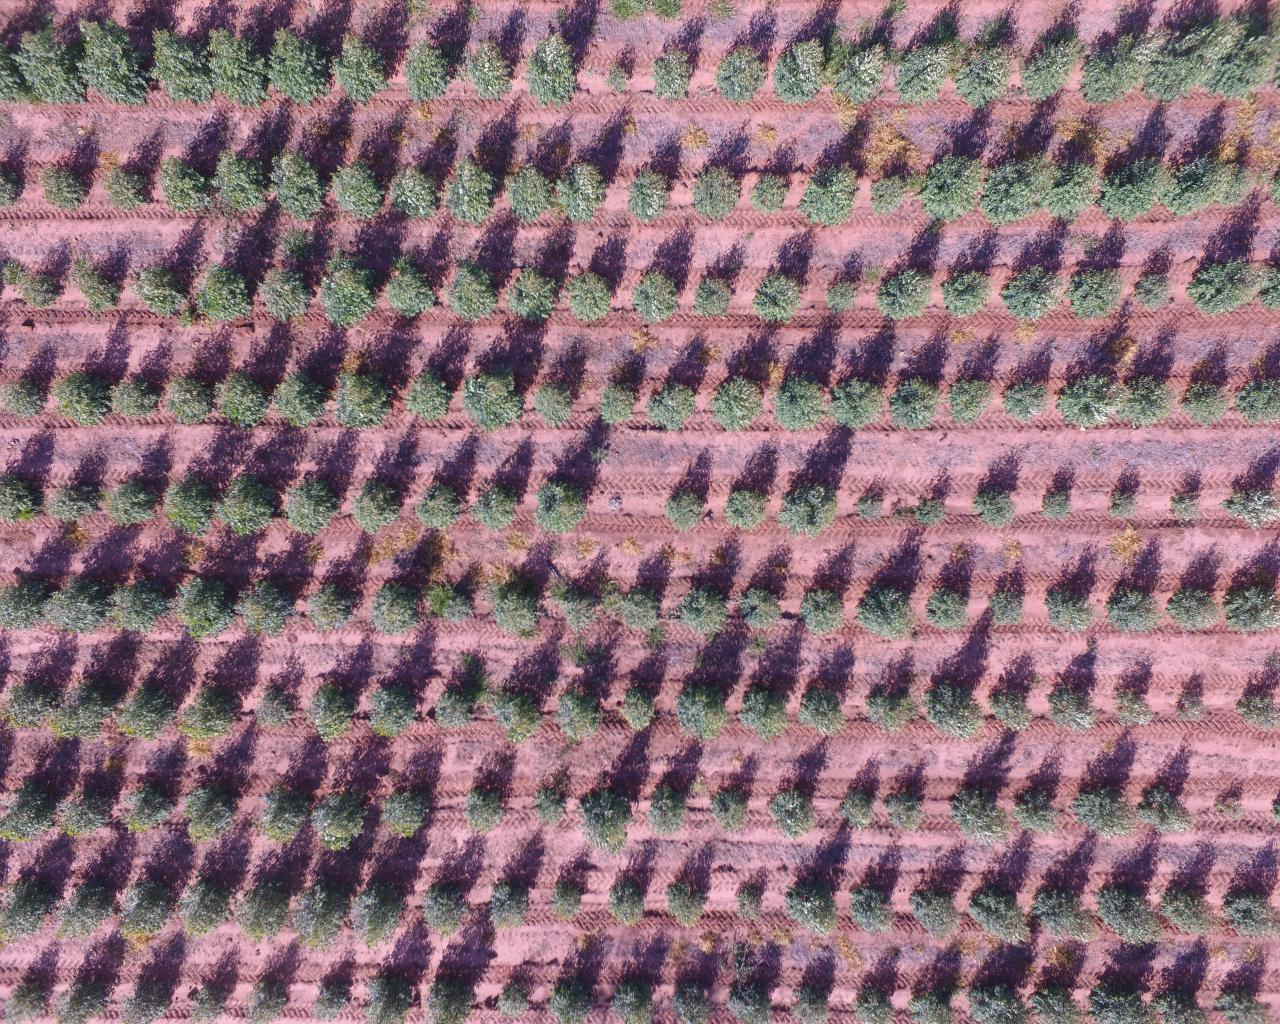Tree: (1094, 846, 1169, 951), (749, 231, 819, 336), (1185, 223, 1260, 318), (77, 14, 152, 106), (192, 228, 260, 328), (11, 25, 85, 115), (798, 139, 864, 231), (104, 552, 171, 638), (1219, 440, 1280, 535), (1226, 840, 1278, 949), (1069, 226, 1128, 321), (525, 21, 589, 108), (872, 238, 939, 322), (1162, 850, 1221, 942), (646, 21, 712, 104), (329, 356, 398, 436), (147, 23, 212, 107), (999, 235, 1064, 319), (771, 471, 850, 540), (703, 366, 771, 445), (208, 24, 274, 106), (1180, 331, 1233, 430), (1040, 846, 1090, 951), (942, 778, 1013, 853), (177, 555, 237, 641), (444, 139, 506, 222), (548, 936, 605, 1024), (62, 938, 120, 1024), (948, 229, 1002, 320), (970, 866, 1032, 945), (269, 147, 334, 222), (607, 936, 662, 1024), (773, 20, 828, 109), (950, 338, 1000, 433), (923, 139, 981, 220), (713, 21, 771, 102), (269, 27, 333, 100), (505, 139, 559, 226), (183, 944, 241, 1024), (969, 448, 1026, 530), (781, 867, 847, 937), (559, 139, 612, 227), (5, 650, 60, 735), (2, 941, 57, 1024), (347, 871, 406, 948), (51, 564, 111, 641), (6, 751, 59, 838), (1128, 776, 1202, 838), (948, 40, 1017, 104), (984, 152, 1046, 224), (459, 367, 527, 432), (464, 22, 519, 101), (381, 785, 451, 847), (335, 146, 395, 219), (294, 877, 353, 950), (580, 782, 638, 856), (908, 862, 965, 937), (897, 30, 955, 103), (670, 674, 732, 742), (310, 789, 373, 857), (853, 579, 922, 641), (673, 572, 735, 641), (400, 357, 459, 429), (269, 362, 327, 434), (1230, 539, 1278, 627), (439, 261, 503, 327), (210, 364, 274, 429), (154, 146, 215, 214), (1131, 227, 1176, 320), (609, 568, 669, 638), (1000, 349, 1052, 427), (505, 260, 562, 331), (333, 31, 387, 108), (1065, 772, 1128, 836), (176, 872, 239, 936), (624, 258, 685, 324), (689, 154, 748, 222), (769, 368, 828, 437), (302, 955, 360, 1024), (422, 955, 481, 1024), (1238, 334, 1280, 430), (37, 155, 97, 220), (634, 131, 676, 225), (47, 365, 107, 430), (140, 235, 188, 317), (644, 371, 702, 438), (363, 956, 420, 1024), (1018, 39, 1081, 99), (400, 33, 455, 104), (122, 959, 182, 1024), (481, 876, 539, 941), (118, 679, 181, 740), (1054, 371, 1119, 429), (180, 782, 246, 839), (468, 472, 528, 535), (525, 372, 590, 428), (825, 371, 886, 432), (98, 159, 160, 218), (261, 265, 320, 328), (691, 248, 738, 325), (886, 372, 946, 433), (320, 266, 381, 325), (825, 238, 868, 322), (1043, 158, 1101, 218), (1102, 160, 1164, 217), (792, 577, 850, 638), (489, 574, 546, 635), (1122, 365, 1178, 428), (245, 948, 290, 1024), (551, 684, 607, 746), (489, 683, 545, 745), (116, 874, 176, 931), (1109, 665, 1157, 736), (56, 877, 119, 931), (396, 149, 445, 218), (186, 682, 246, 739), (219, 473, 280, 529), (1044, 669, 1099, 729), (832, 46, 889, 103), (2, 566, 47, 639), (166, 467, 215, 534), (534, 472, 586, 535), (2, 876, 54, 938), (222, 141, 267, 212), (164, 367, 215, 430), (1009, 785, 1066, 841), (732, 683, 791, 738), (721, 963, 773, 1024), (1149, 972, 1210, 1024), (59, 683, 114, 740), (256, 782, 311, 838), (284, 478, 342, 532), (790, 956, 836, 1024), (1210, 978, 1278, 1024), (962, 973, 1023, 1024), (1089, 973, 1149, 1024), (562, 269, 618, 324), (1103, 582, 1161, 634), (419, 881, 471, 938), (60, 787, 121, 835), (749, 157, 792, 226), (924, 680, 981, 731), (23, 245, 67, 311), (602, 871, 652, 930), (645, 778, 694, 838), (107, 371, 163, 422), (1164, 584, 1221, 634), (988, 675, 1038, 734), (792, 691, 853, 738), (241, 875, 288, 935), (1163, 159, 1218, 210), (367, 582, 423, 632), (737, 575, 785, 633), (414, 478, 464, 533), (89, 245, 130, 312), (236, 579, 290, 629), (464, 782, 515, 834), (767, 786, 818, 838), (1045, 581, 1095, 634), (658, 484, 714, 532), (597, 371, 642, 429), (122, 782, 176, 831), (850, 877, 899, 930), (1230, 679, 1278, 734), (1027, 981, 1088, 1024), (1162, 465, 1207, 522), (662, 877, 709, 931), (1038, 460, 1077, 523), (670, 975, 721, 1024), (303, 581, 355, 629), (494, 962, 539, 1018), (720, 482, 770, 531), (372, 686, 419, 739), (557, 575, 601, 630), (543, 872, 594, 921), (50, 471, 100, 518), (311, 682, 356, 735), (0, 374, 47, 423), (354, 481, 401, 530), (869, 171, 915, 222), (908, 978, 958, 1024), (917, 468, 953, 533), (726, 870, 771, 922), (1104, 464, 1144, 521), (387, 272, 432, 322), (111, 473, 156, 523), (884, 779, 928, 831), (853, 473, 890, 533), (835, 788, 884, 833), (847, 982, 900, 1024), (619, 680, 659, 734), (1210, 779, 1251, 828), (867, 690, 911, 734), (707, 784, 750, 829), (925, 586, 971, 627), (606, 41, 636, 101), (1170, 673, 1204, 723), (258, 684, 299, 725), (529, 786, 571, 825), (436, 688, 471, 732), (986, 587, 1025, 628), (0, 162, 26, 214)
